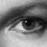eye: (22, 20, 34, 30)
